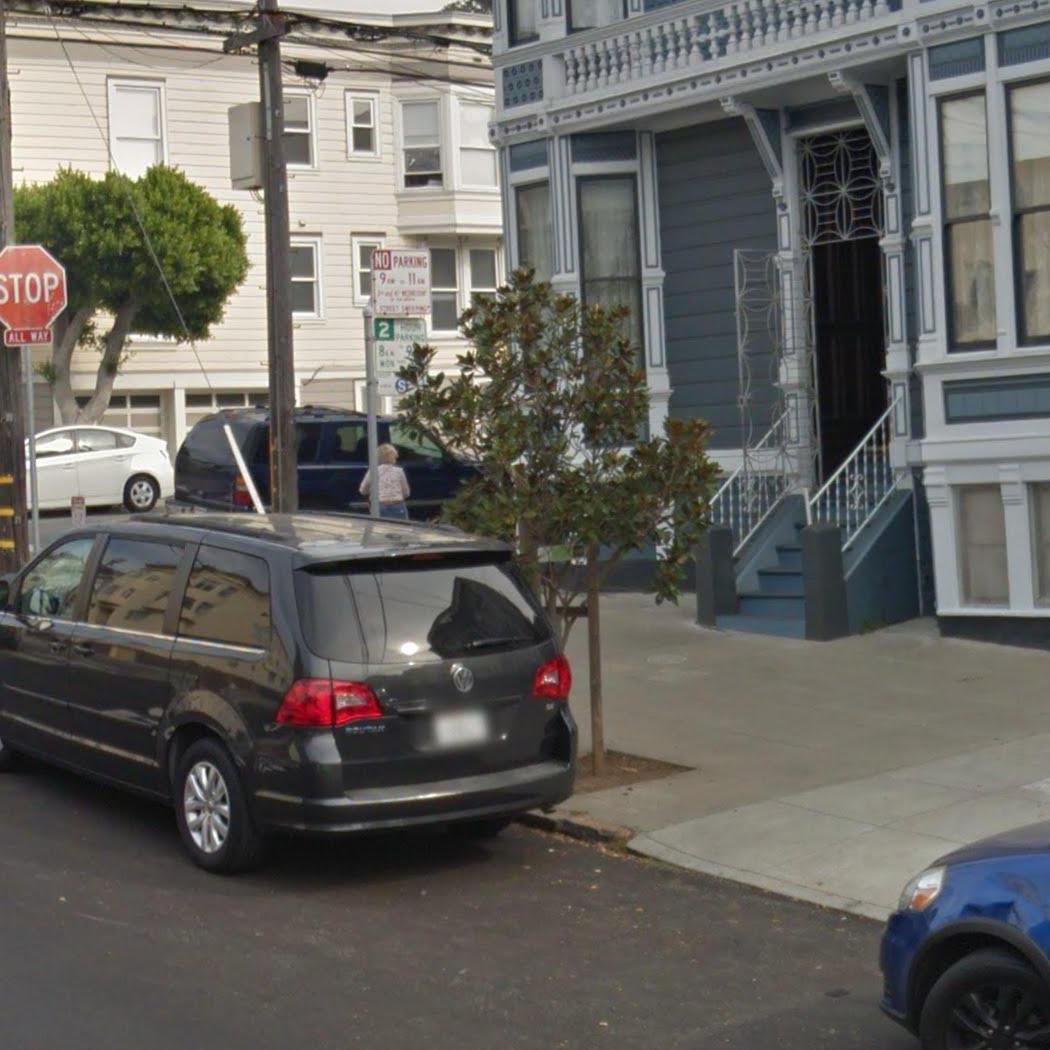2 Hour Parking: (368, 315, 431, 381)
No Parking: (367, 246, 437, 317)
